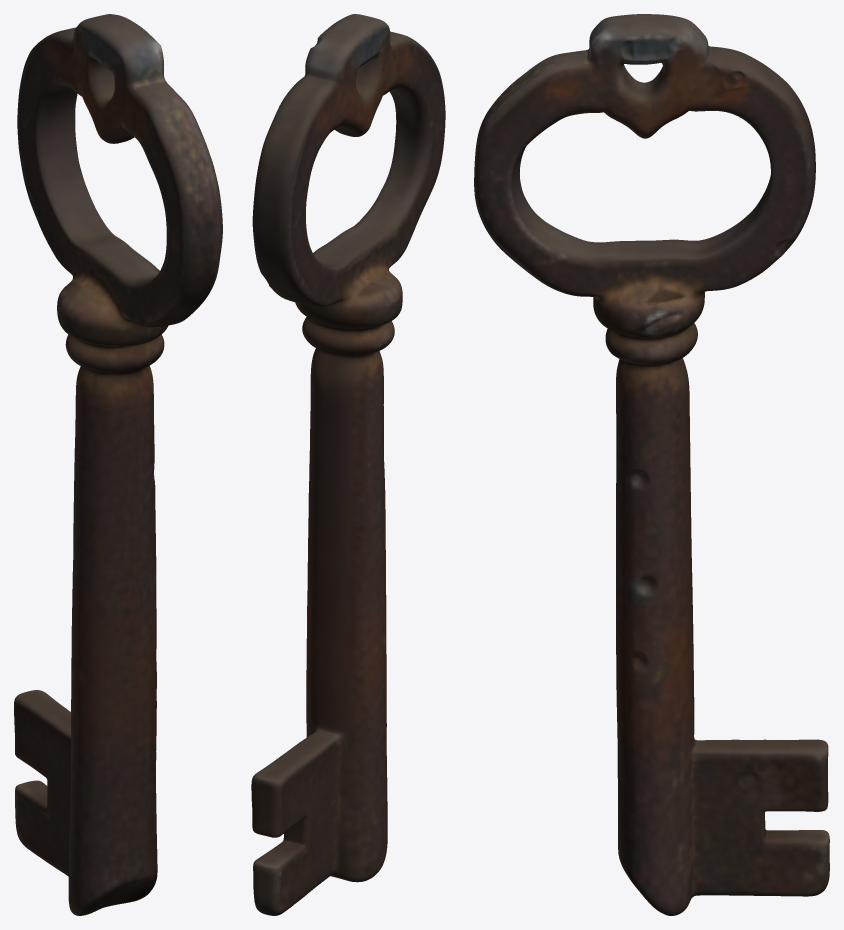
File: Key6.fbx
3 views of the same model, side by side, from view 1: azimuth 30°, elevation 25°; view 2: azimuth 150°, elevation 25°; view 3: azimuth 270°, elevation 25° (orthographic). The views are drawn at different scales.
Parts seen in each view (by area): view 1: tripo_node_c6a790f1.006; view 2: tripo_node_c6a790f1.006; view 3: tripo_node_c6a790f1.006.
Part boxes in pixels (box(x1,y1,x2,y2)): tripo_node_c6a790f1.006: box(14, 14, 222, 915); tripo_node_c6a790f1.006: box(251, 14, 445, 915); tripo_node_c6a790f1.006: box(474, 14, 829, 915).
Size of the model in its own units: 5.31 by 44.88 by 16.37.
1 material, 1 textured.
